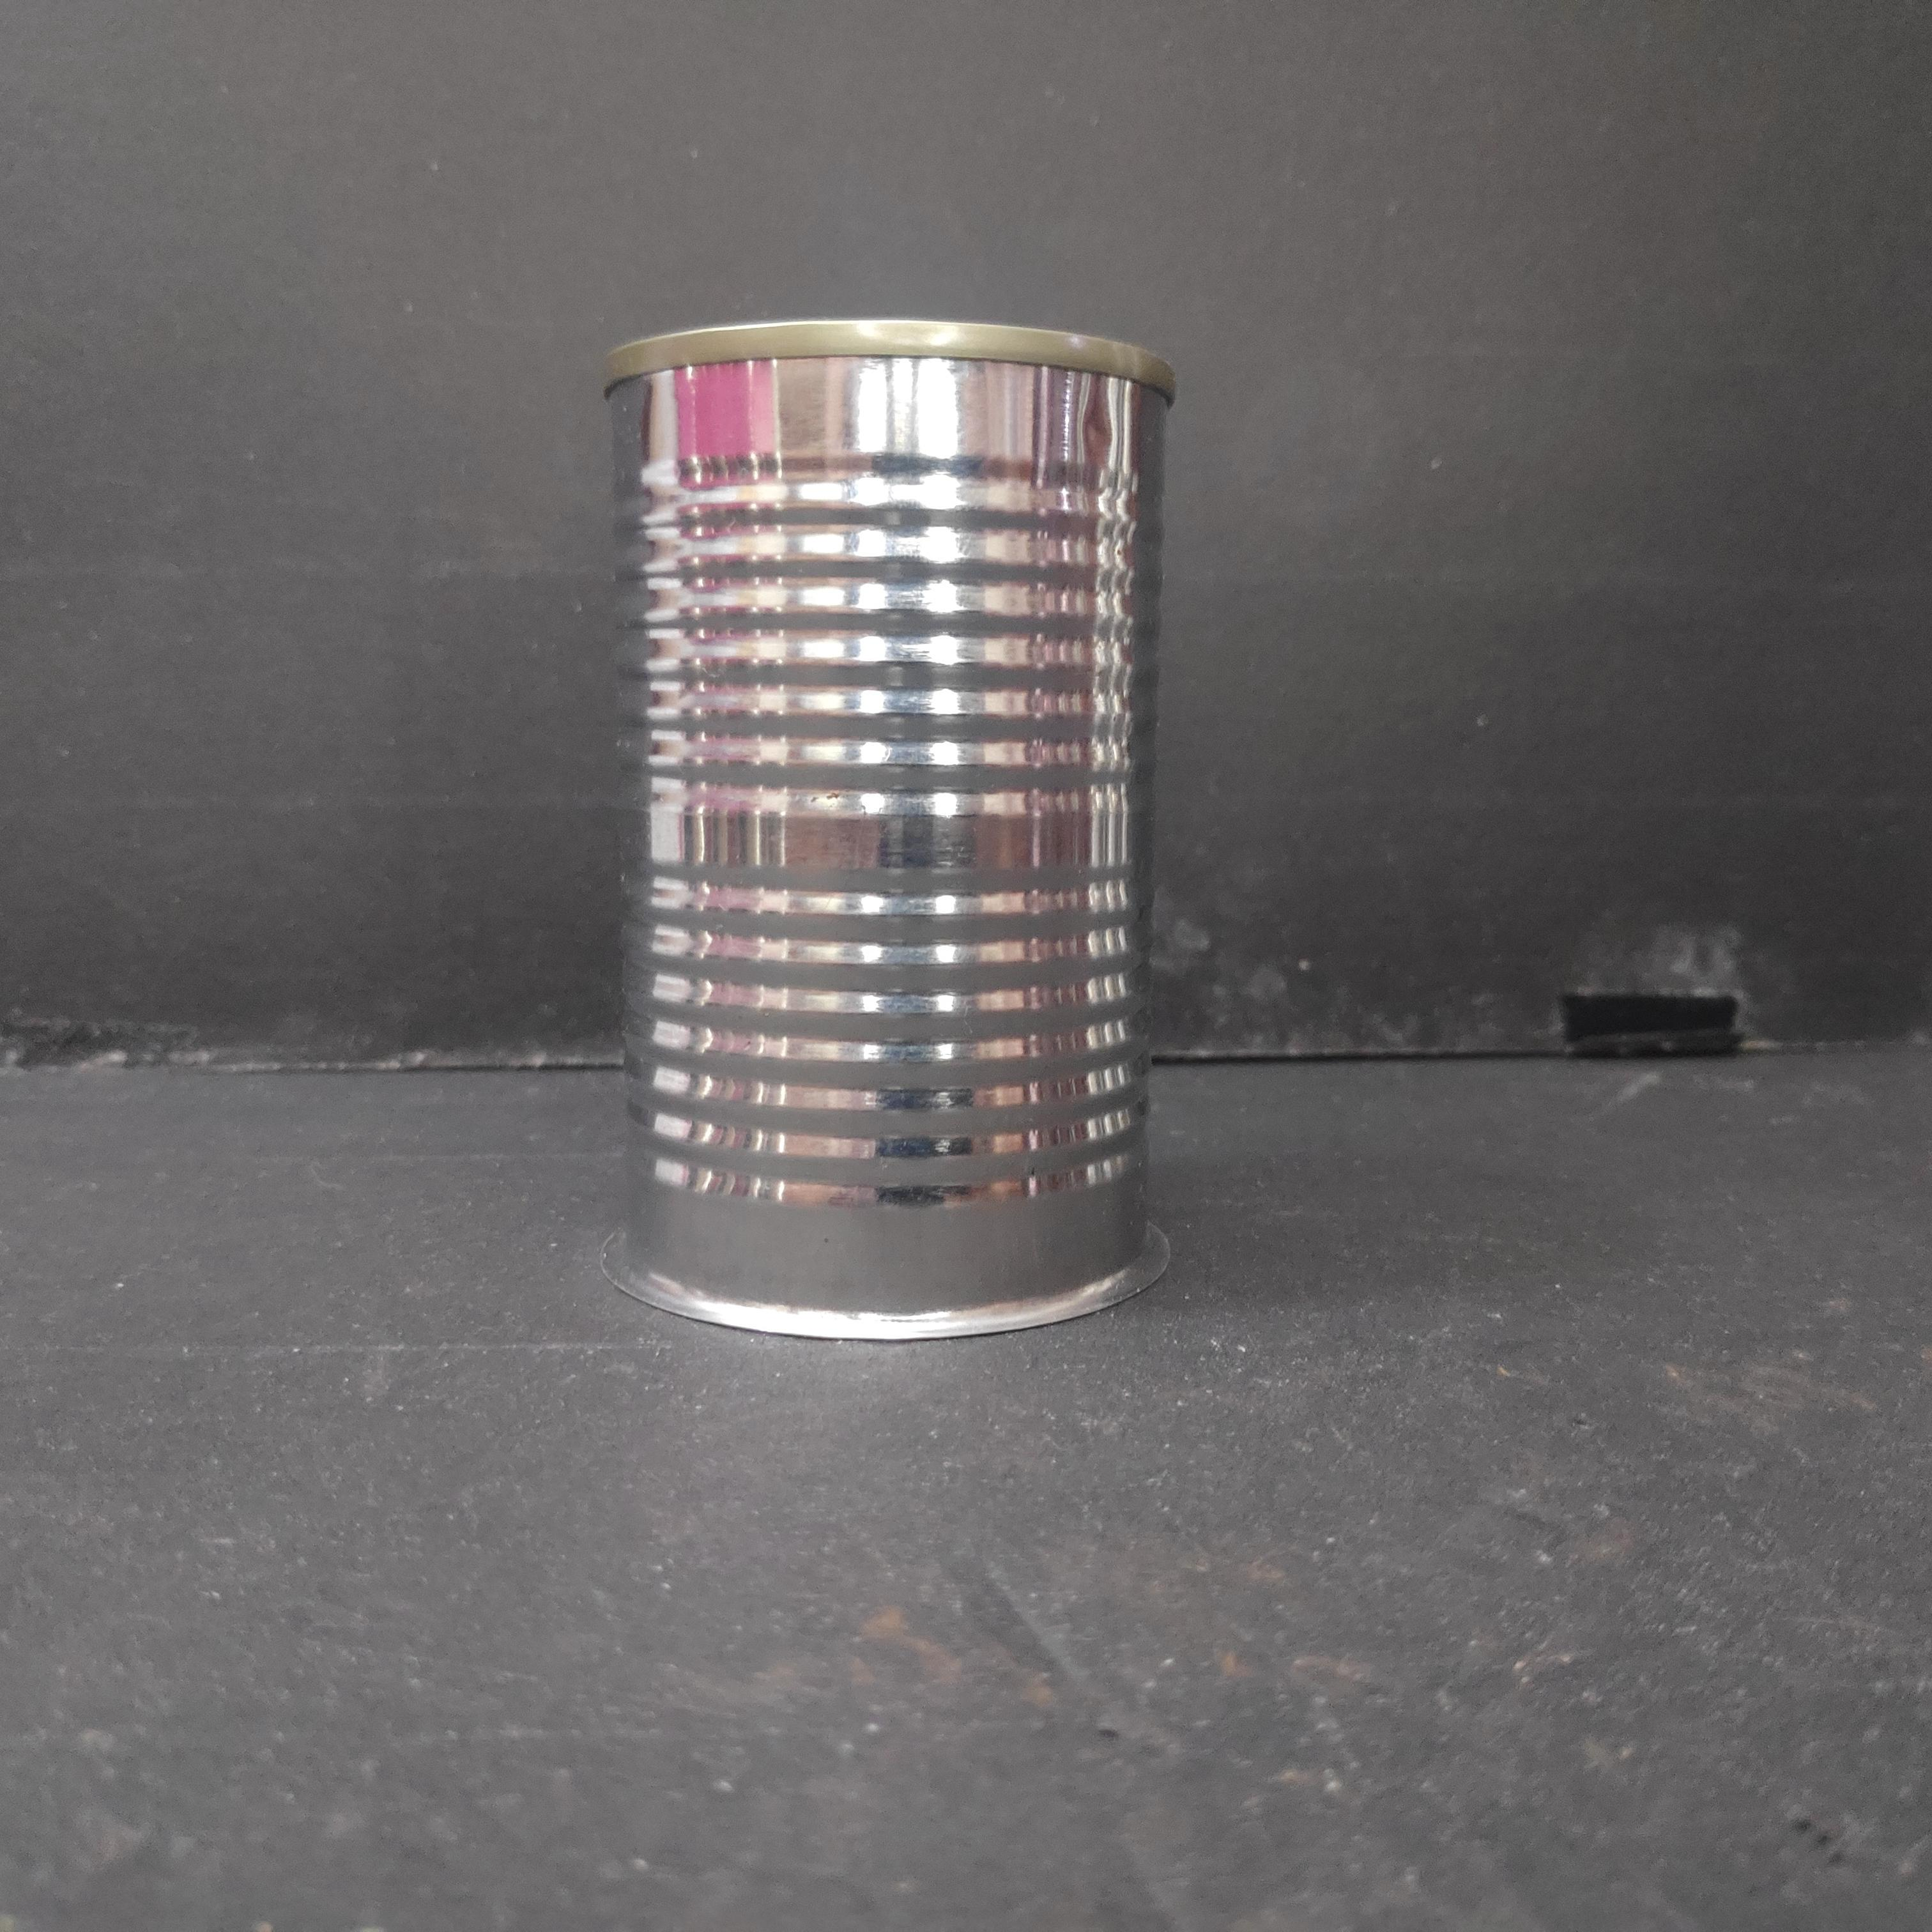No defect: (588, 316, 1182, 1343)
